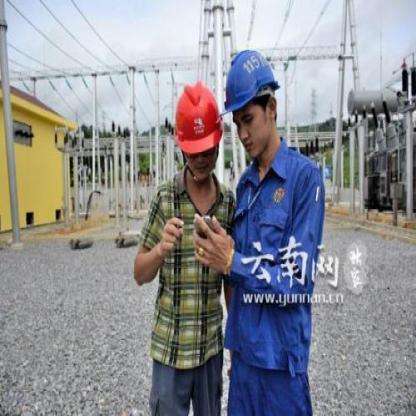capacete: (218, 46, 286, 122), (172, 74, 222, 158)
